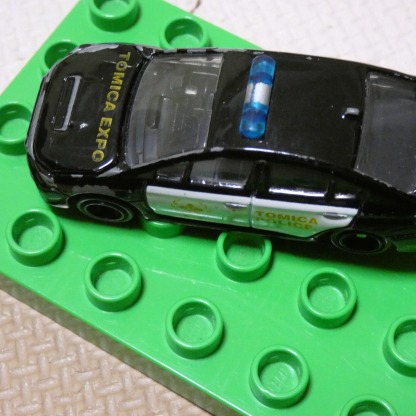car: (32, 39, 416, 263)
